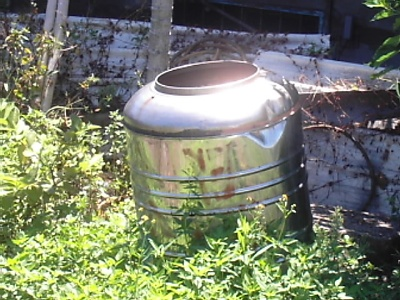water_tower: (122, 59, 313, 245)
